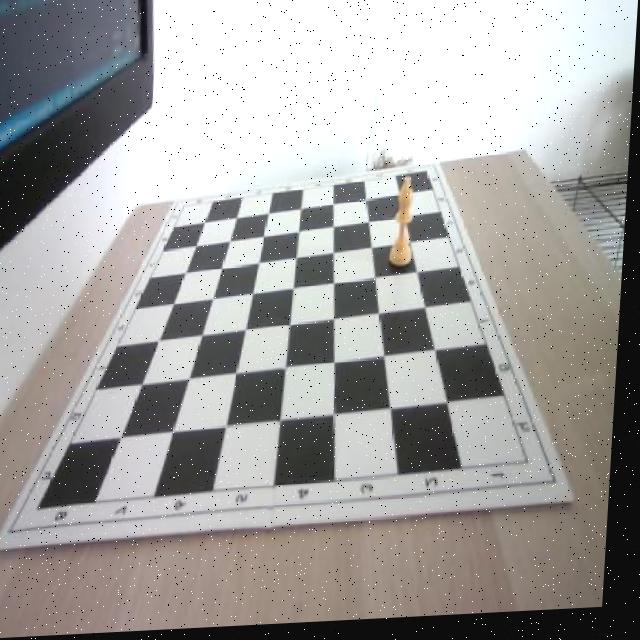black-rook: (393, 181, 420, 272)
